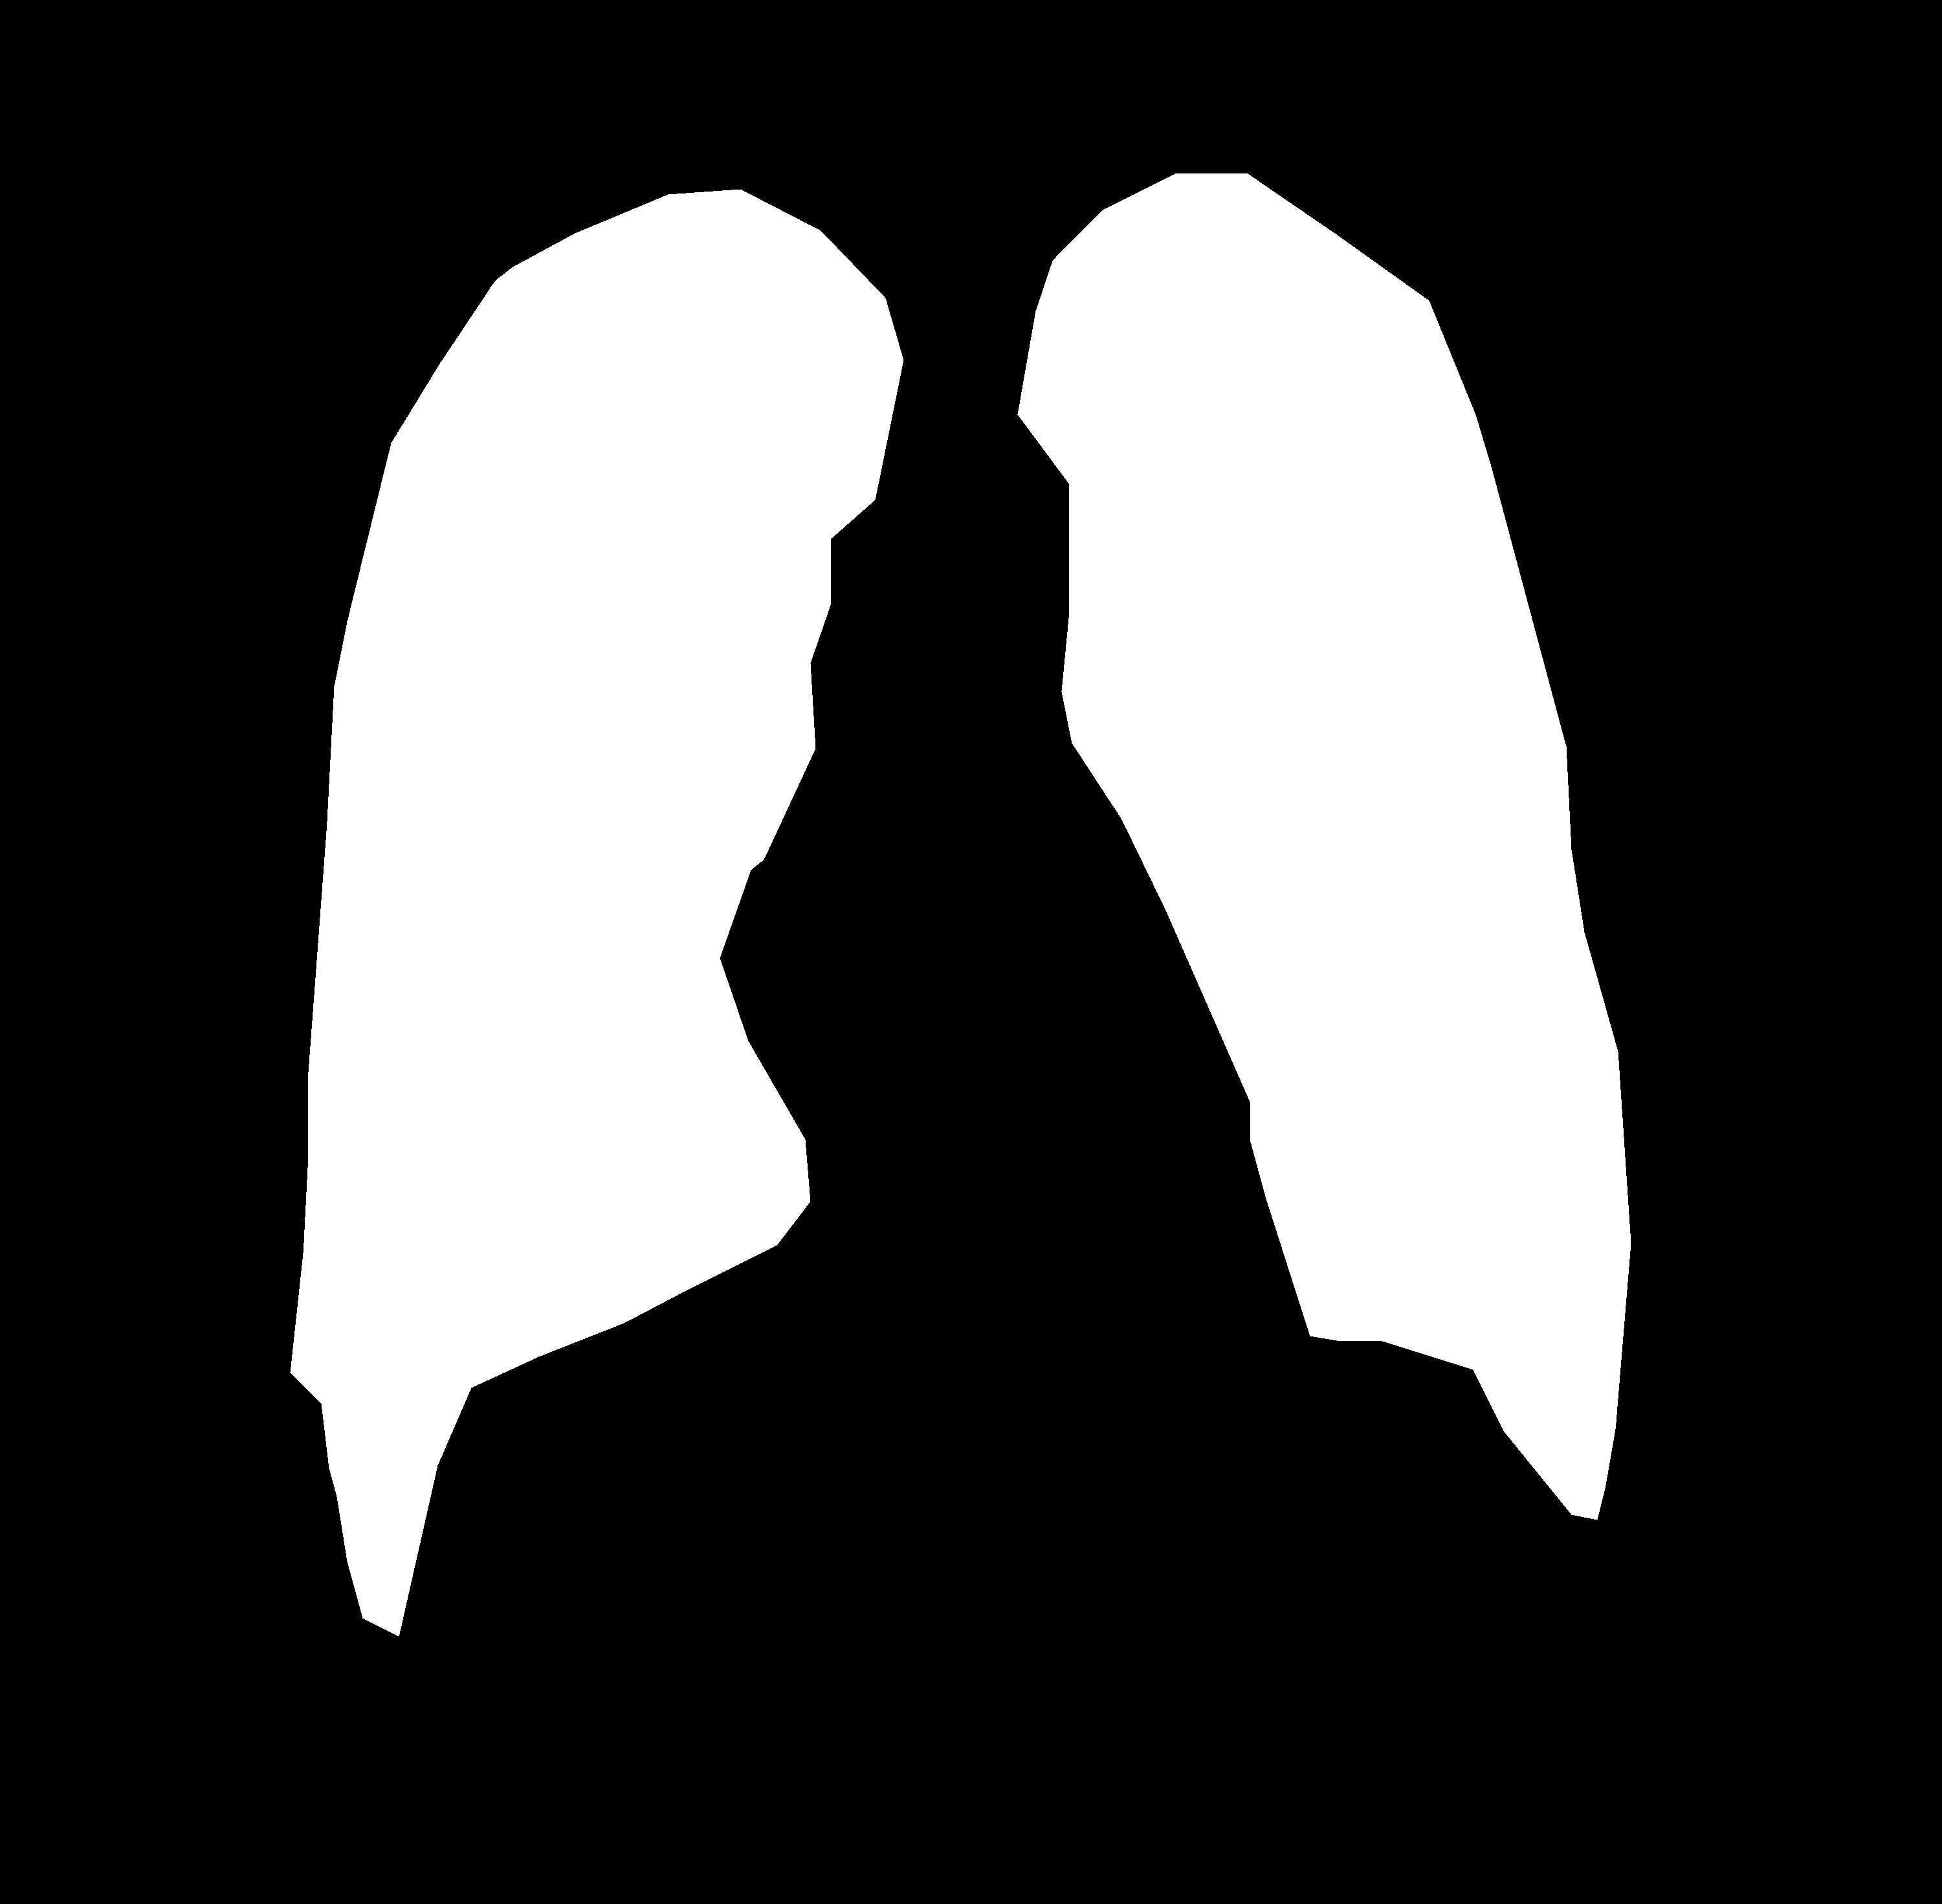heart: (734, 781, 1292, 1384)
left_lung: (296, 183, 903, 1639)
right_lung: (1018, 173, 1621, 1529)
